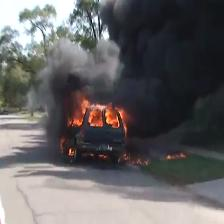fire: (80, 106, 120, 123)
smoke: (106, 0, 224, 122)
